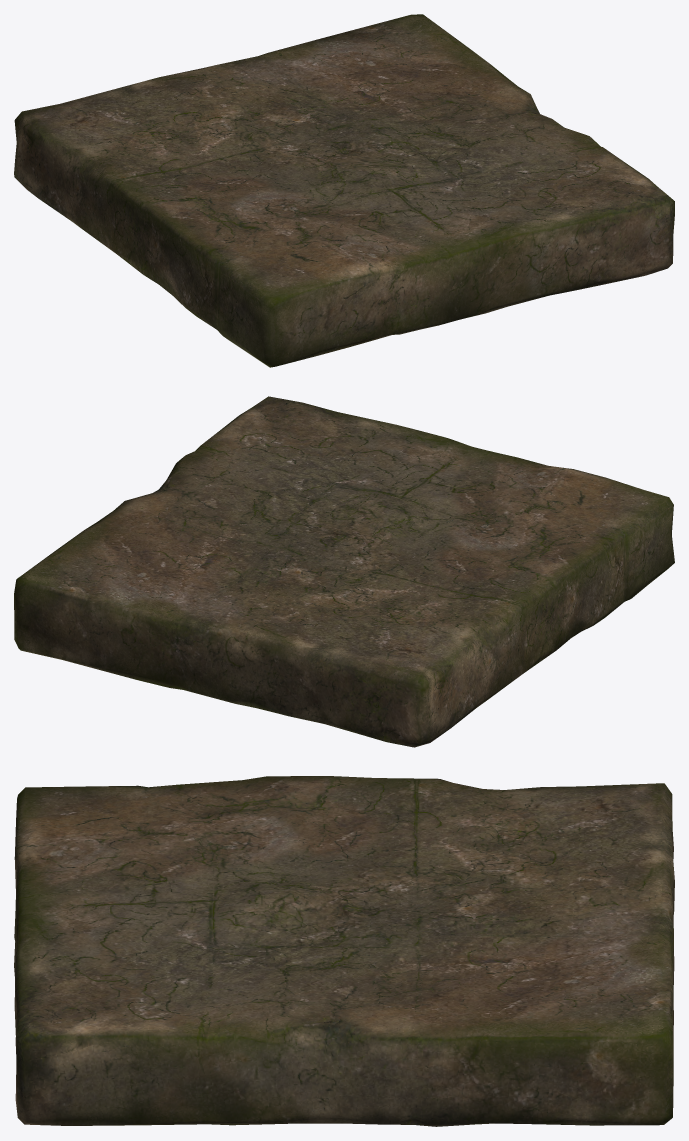
The model's file is MossyForgotten_SquareStone_Small.glb.
The picture shows the model from 3 angles, top to bottom: view 1: azimuth 30°, elevation 25°; view 2: azimuth 150°, elevation 25°; view 3: azimuth 270°, elevation 25°; orthographic projection. The views are drawn at different scales.
Visible parts, largest first — view 1: MossyForgotten_SquareStone_Small; view 2: MossyForgotten_SquareStone_Small; view 3: MossyForgotten_SquareStone_Small.
Part boxes in pixels (x1,y1,x2,y2): MossyForgotten_SquareStone_Small: (14,14,674,367); MossyForgotten_SquareStone_Small: (14,396,674,747); MossyForgotten_SquareStone_Small: (14,776,674,1126).
Size of the model in its own units: 4.78 by 0.9019 by 5.12.
1 material, 1 textured.
